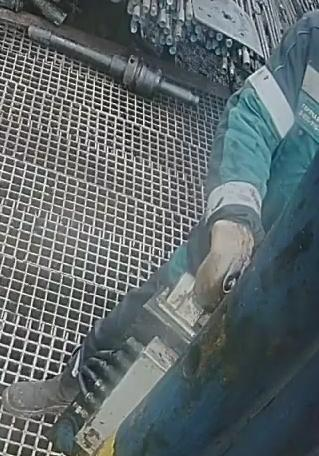gloves: (192, 218, 256, 312)
vest: (207, 5, 318, 216)
